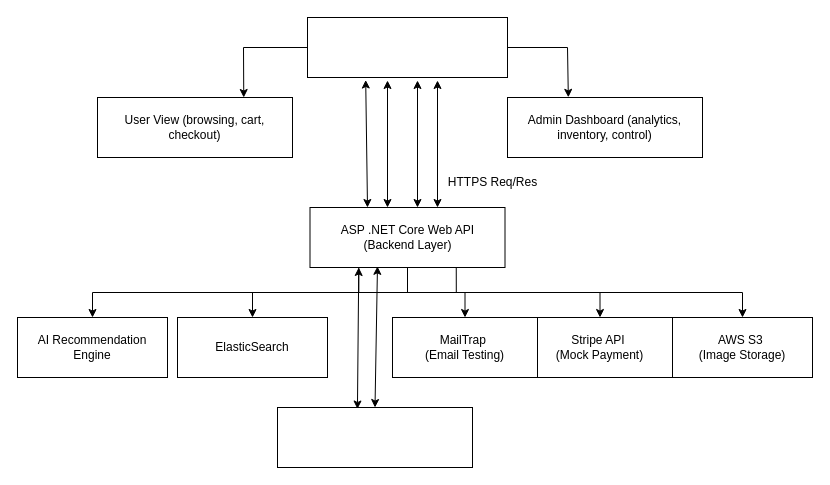
Image size: 830x485. Some labels were removed from this diagram. The shapes that lost their labels are listed below. From the top down, each one's centre as x and y in pixels, then its label:
point (407, 47): Web Application (React + MUI)
point (374, 437): PosgreSQL Database
